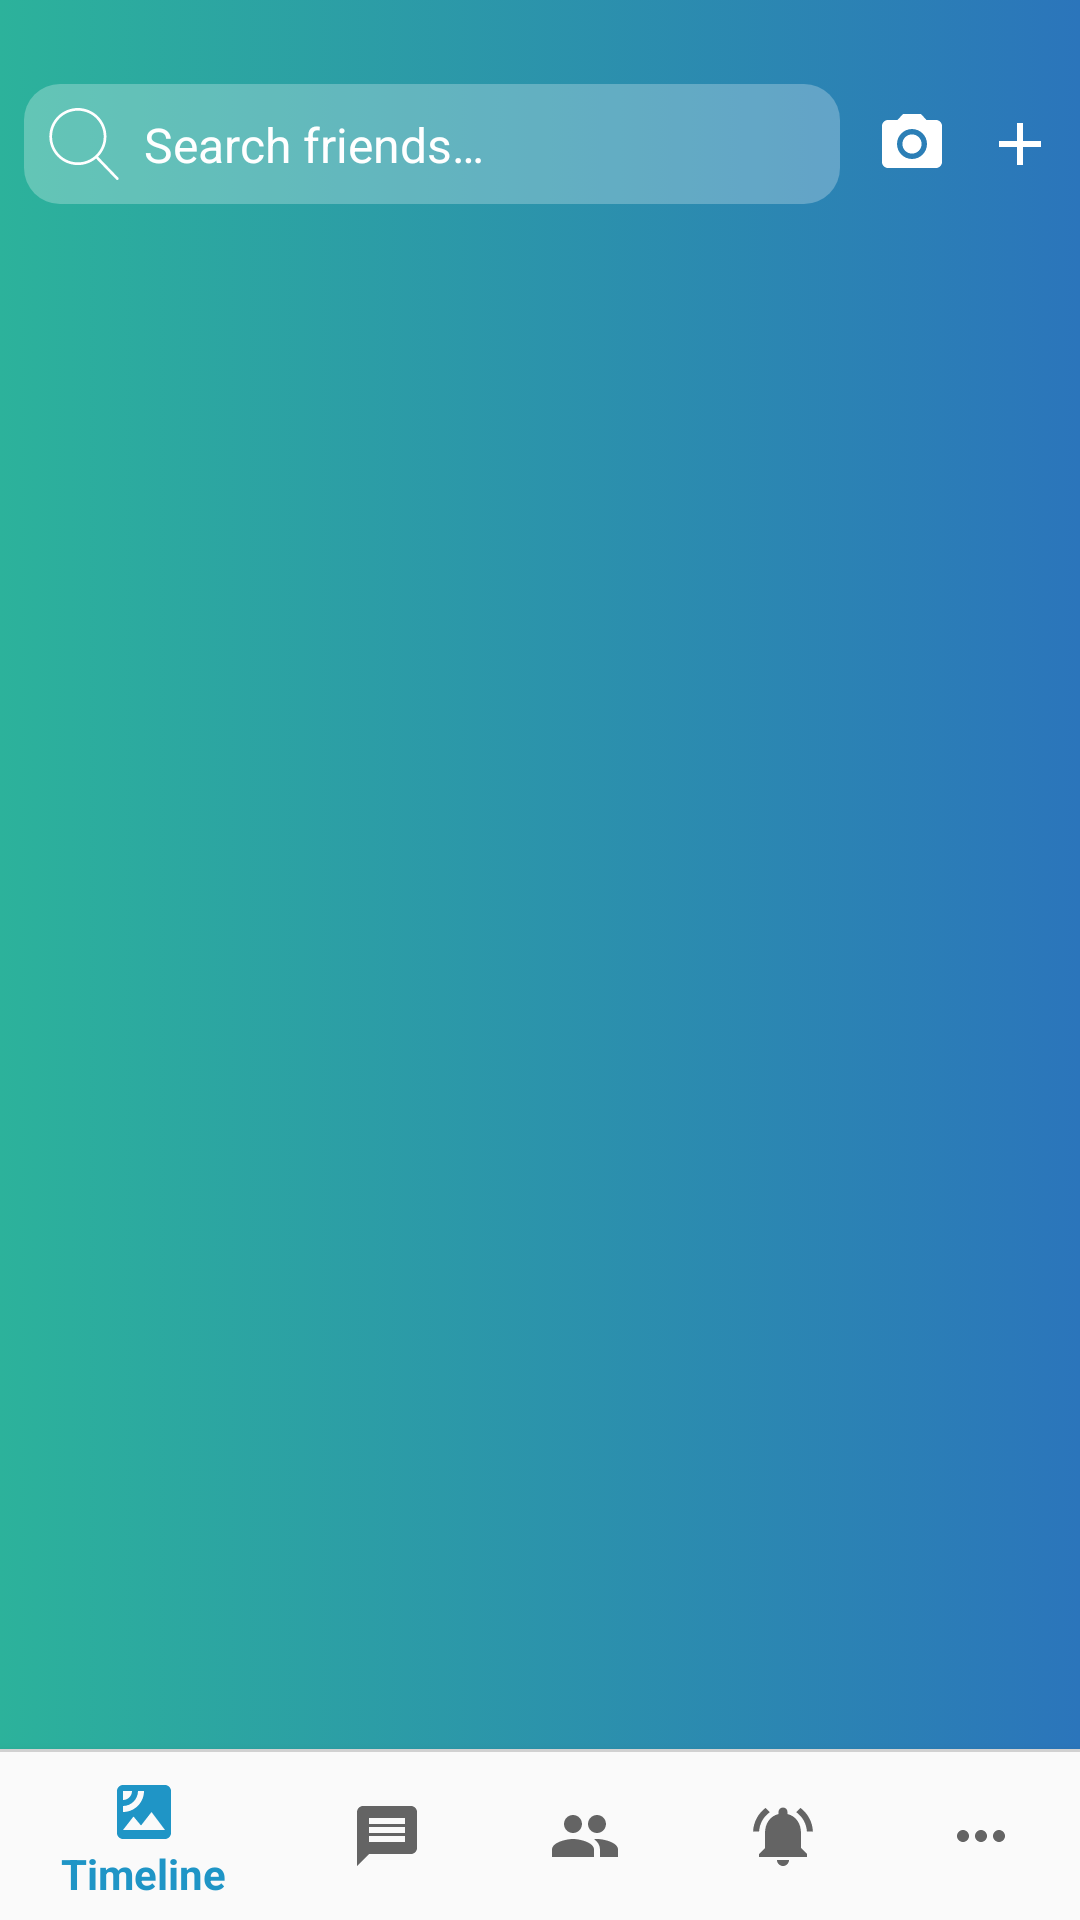

Locate icon controls on the screen. Image size 1080x1920, boxes as (left=x1, top=y1, right=x2, bottom=y2).
add: (left=999, top=123, right=1041, bottom=165)
camera: (left=882, top=114, right=942, bottom=168)
